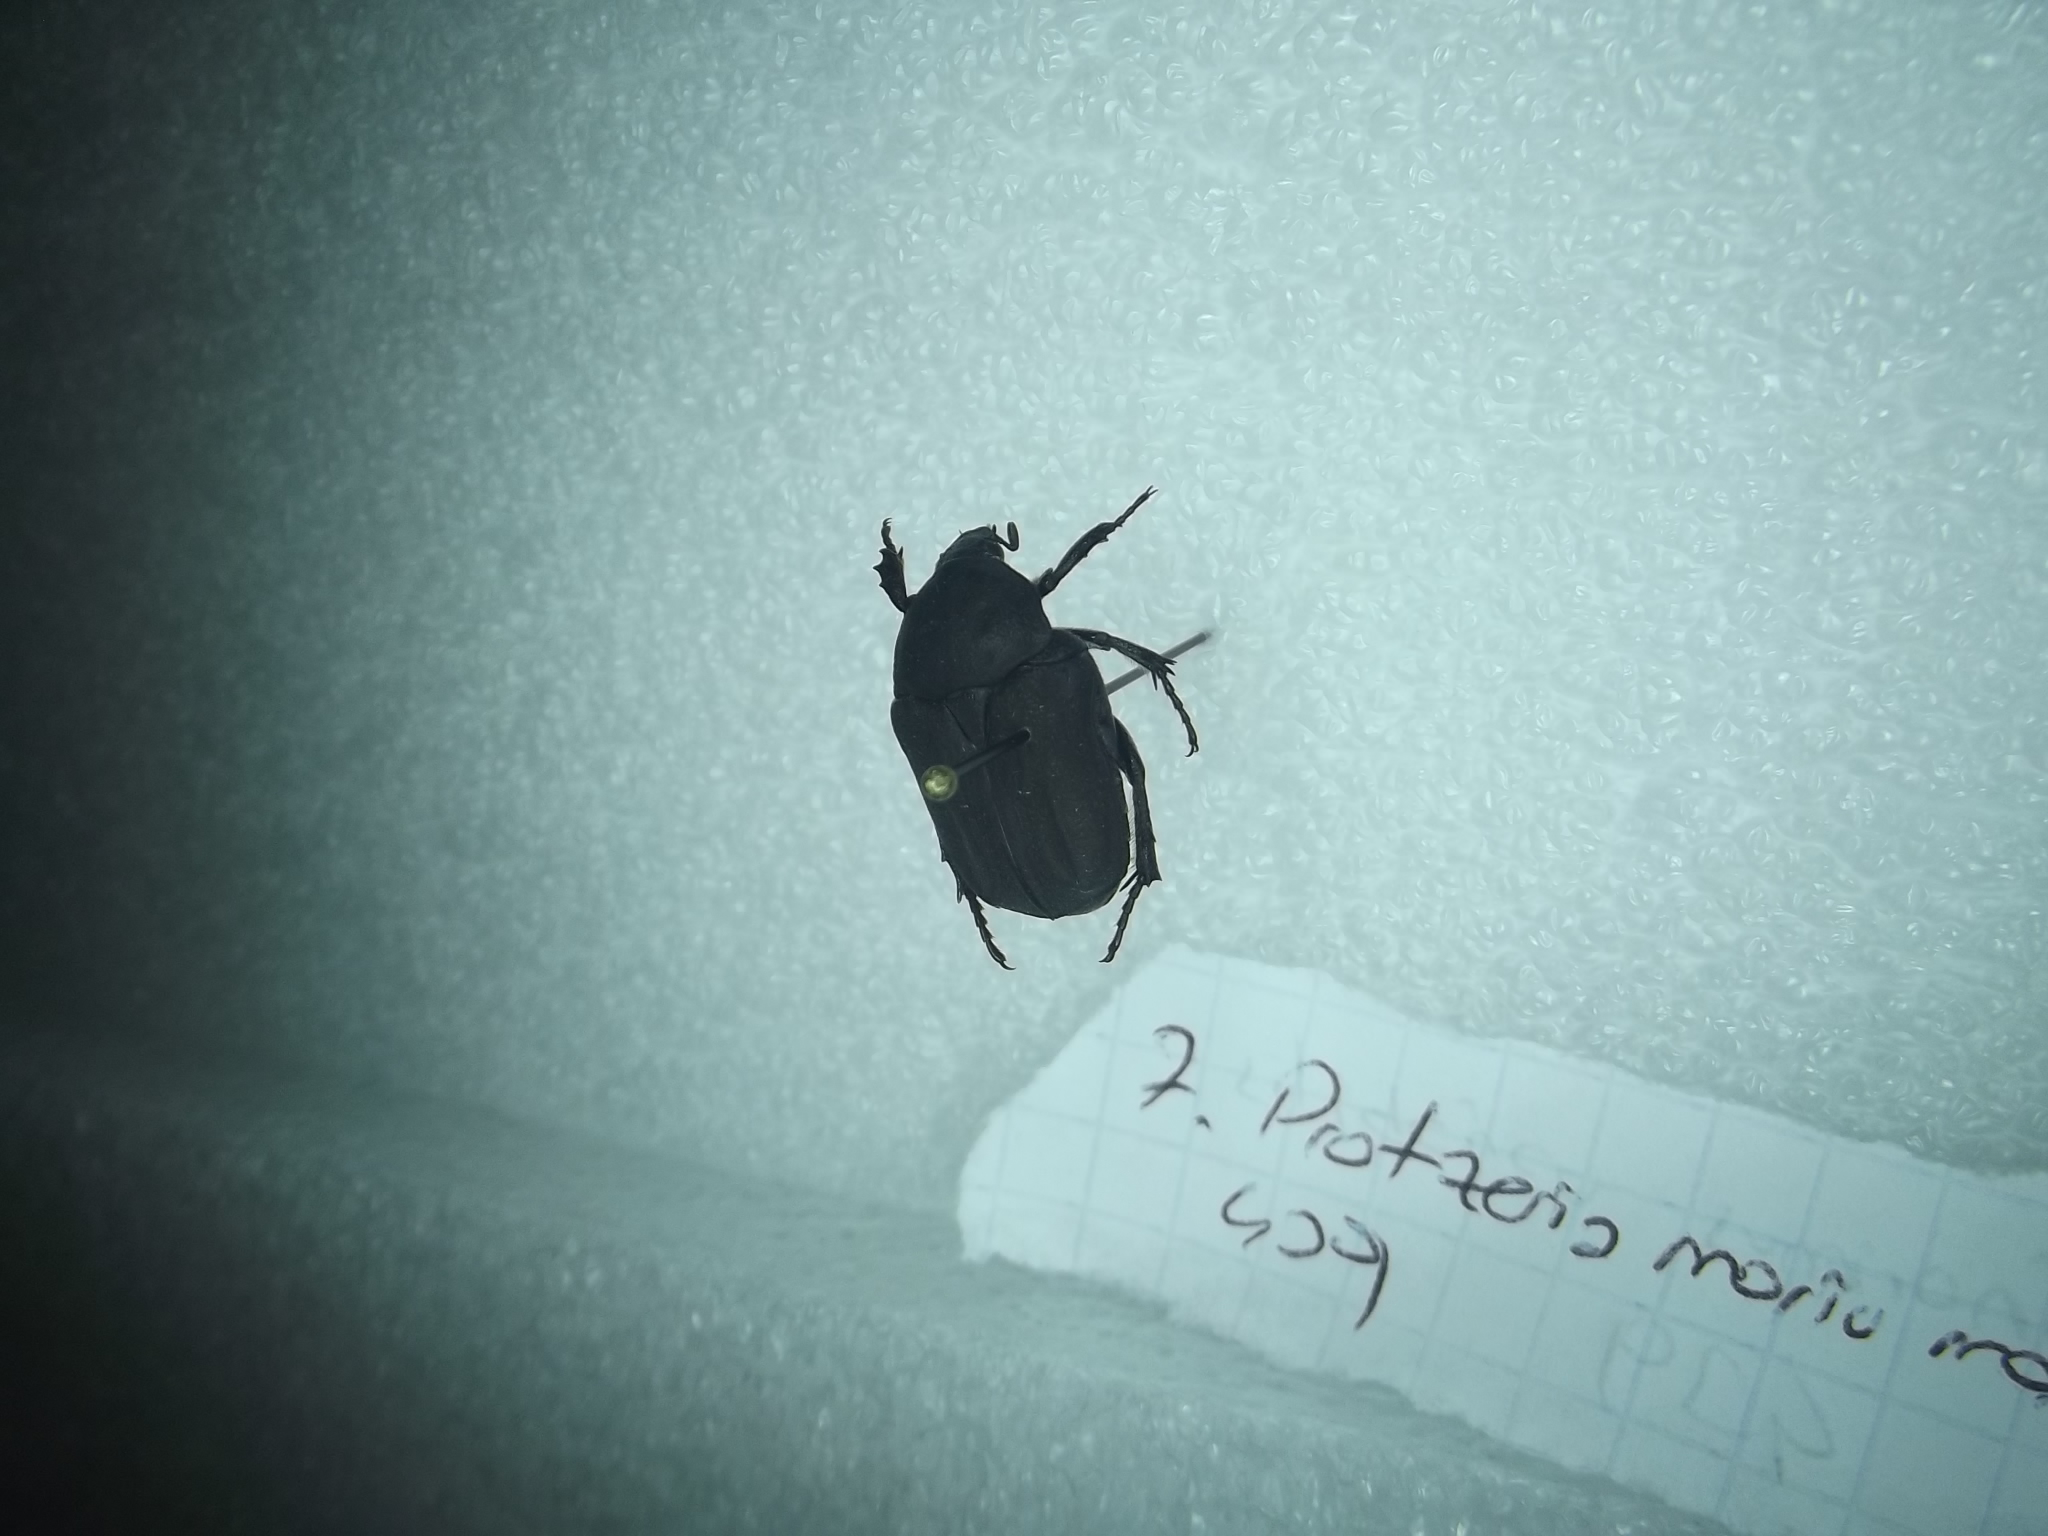Protaetia_morio_morio: (835, 470, 1205, 979)
